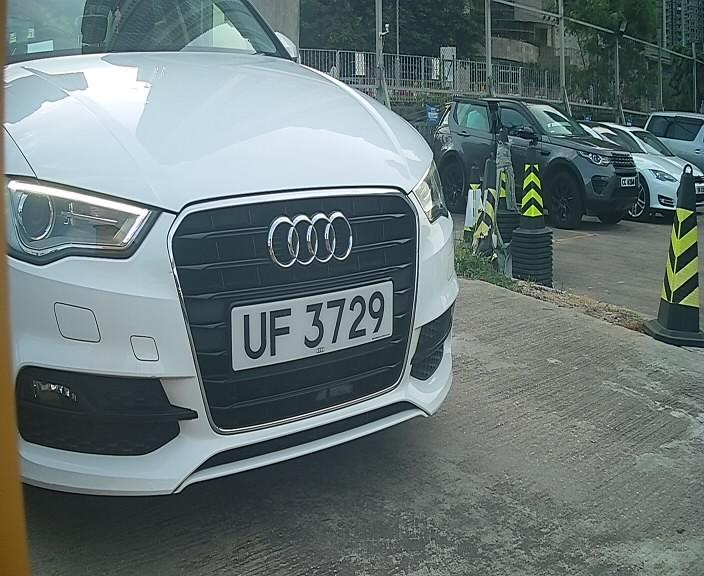privatecar: (1, 19, 491, 492)
